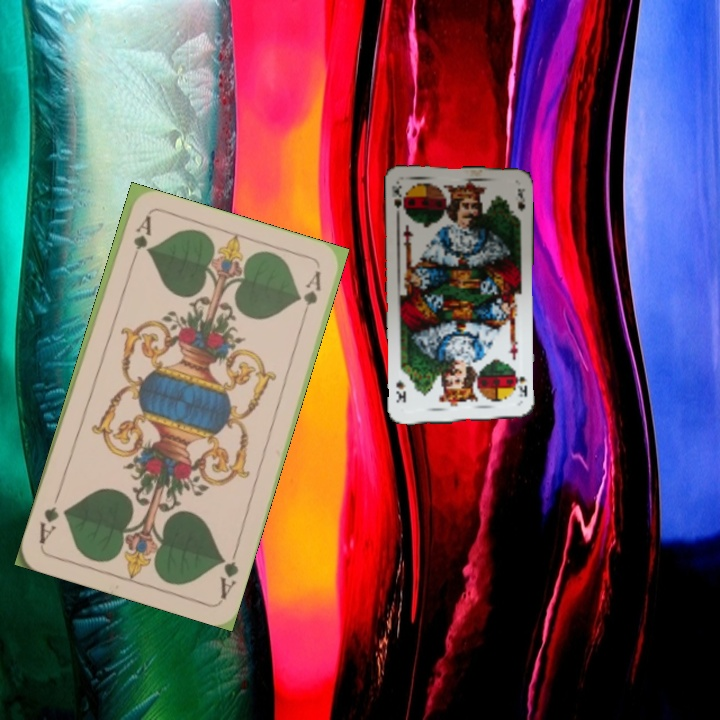GA: (125, 212, 154, 270), (215, 543, 242, 602)
SK: (388, 181, 408, 221), (511, 367, 530, 399)
